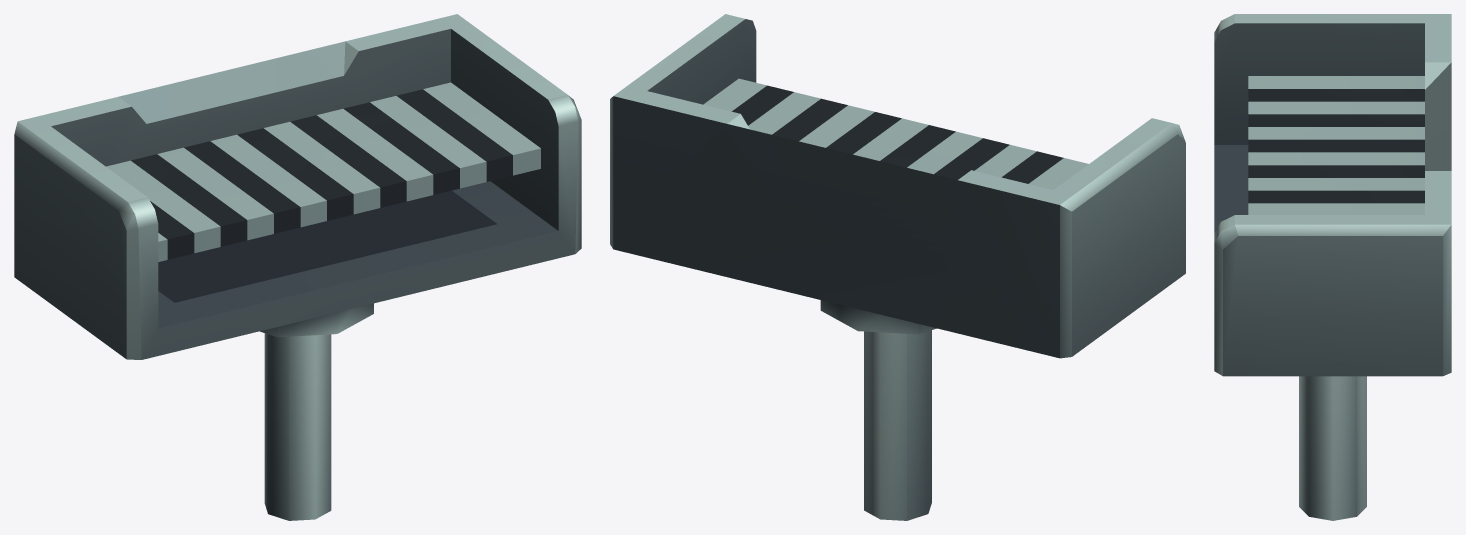
File: park_BBQ.fbx
3 views of the same model, side by side, from view 1: azimuth 30°, elevation 25°; view 2: azimuth 150°, elevation 25°; view 3: azimuth 270°, elevation 25° (orthographic). The views are drawn at different scales.
Parts seen in each view (by area): view 1: park_BBQ; view 2: park_BBQ; view 3: park_BBQ.
Part boxes in pixels (x1,y1,x2,y2): park_BBQ: (14, 14, 581, 520); park_BBQ: (610, 14, 1185, 520); park_BBQ: (1214, 14, 1451, 520).
Size of the model in its own units: 100 by 82.96 by 46.04.
